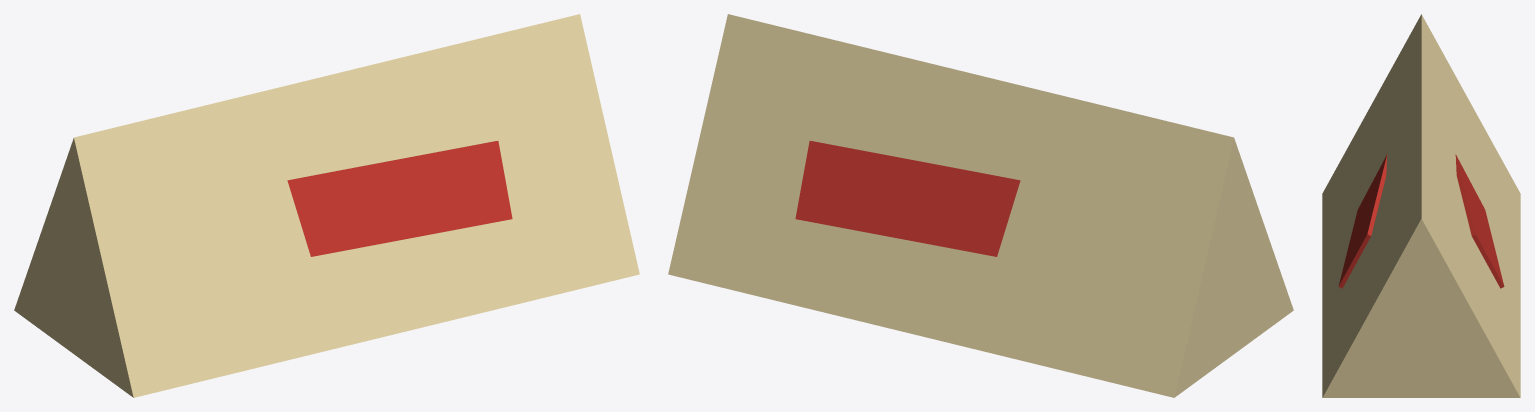
Rendered from EmptyDeskCard.fbx.
3 renders of one model, left to right at view 1: azimuth 30°, elevation 25°; view 2: azimuth 150°, elevation 25°; view 3: azimuth 270°, elevation 25°, orthographic. The views are drawn at different scales.
Visible parts, largest first — view 1: EmptyDeskCardBody; view 2: EmptyDeskCardBody; view 3: EmptyDeskCardBody.
Part boxes in pixels (<box>): EmptyDeskCardBody: <box>14,14,639,397</box>; EmptyDeskCardBody: <box>668,14,1293,397</box>; EmptyDeskCardBody: <box>1322,14,1520,397</box>.
Size of the model in its own units: 0.22 by 0.09 by 0.09.
